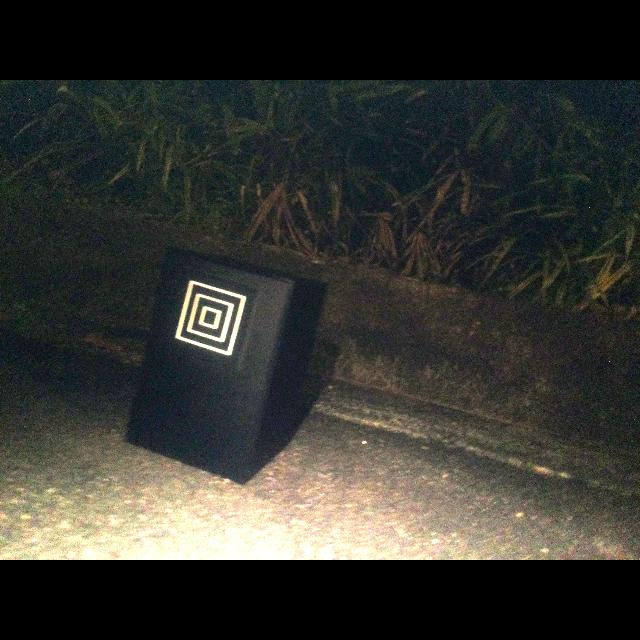BULLSEYE: (176, 281, 246, 356)
